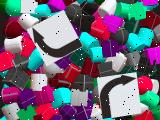Right: (27, 10, 83, 66), (97, 72, 141, 120)
